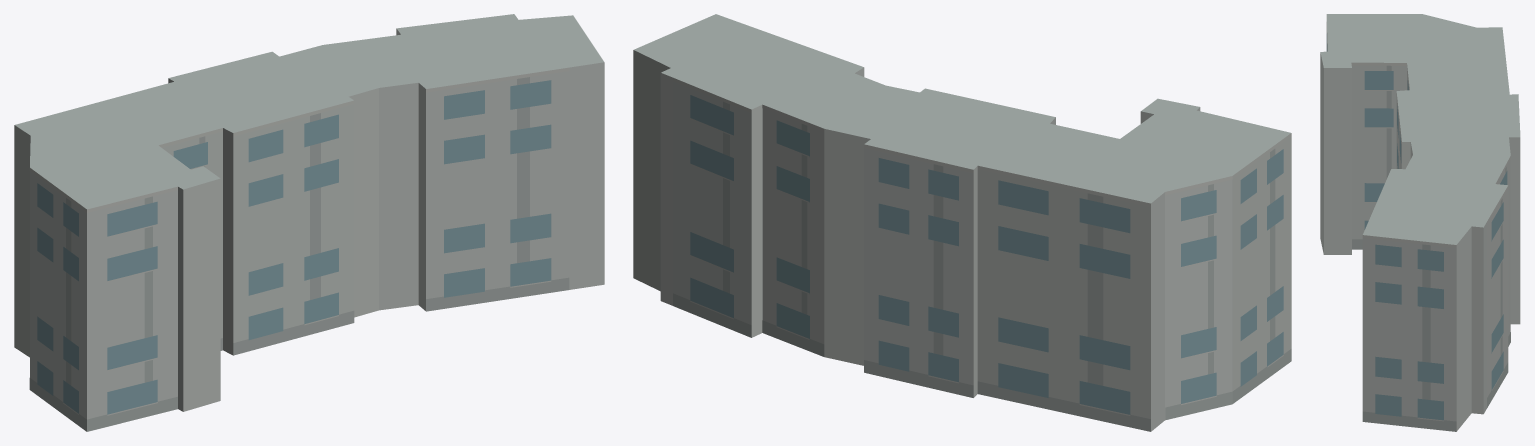
File: survey-upis-32921806.glb
3 views of the same model, side by side, from view 1: azimuth 30°, elevation 25°; view 2: azimuth 150°, elevation 25°; view 3: azimuth 270°, elevation 25° (orthographic). The views are drawn at different scales.
Parts seen in each view (by area): view 1: survey-upis-32921806.tmp; view 2: survey-upis-32921806.tmp; view 3: survey-upis-32921806.tmp.
Part boxes in pixels (x1,y1,x2,y2): survey-upis-32921806.tmp: (14, 14, 604, 431); survey-upis-32921806.tmp: (633, 14, 1291, 431); survey-upis-32921806.tmp: (1320, 14, 1520, 431).
Bounding box in the file's own units: 40.45 × 15.25 × 14.8.
